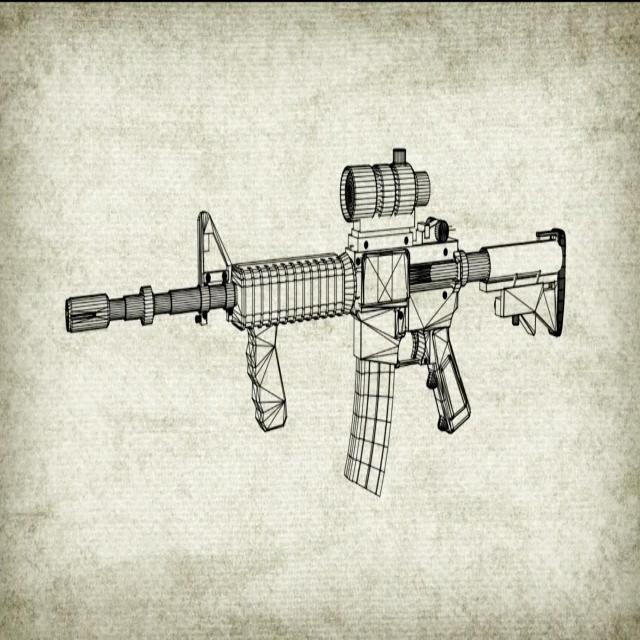Weapon: (61, 150, 570, 511)
